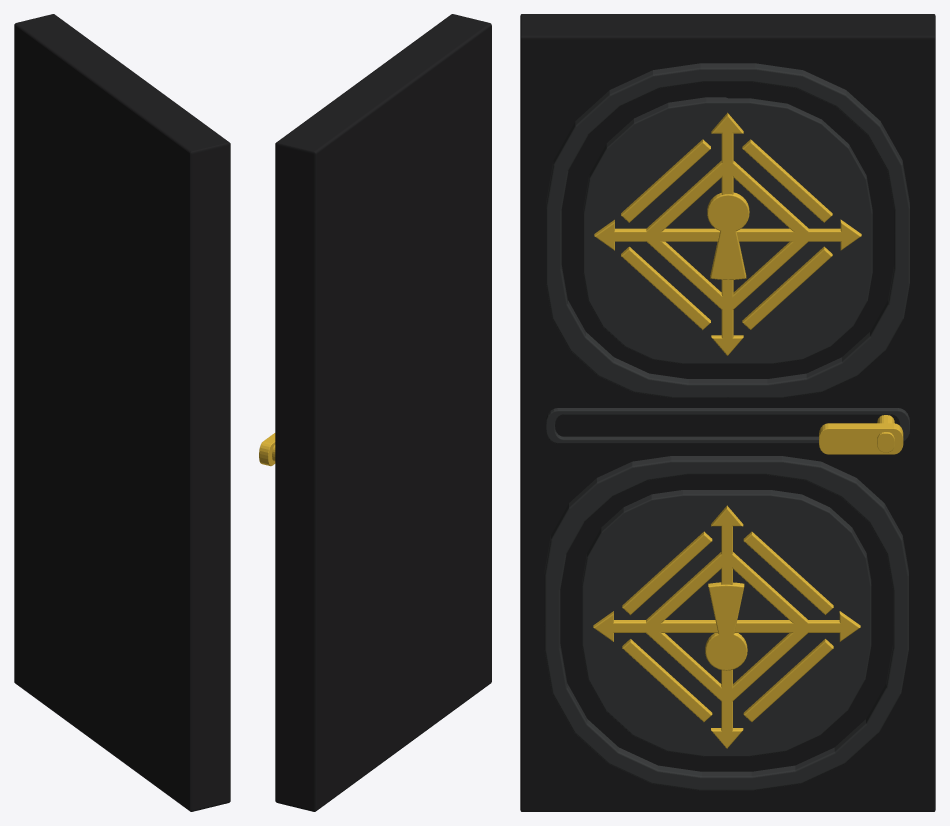
File: SpecialDoor.fbx
3 renders of one model, left to right at view 1: azimuth 30°, elevation 25°; view 2: azimuth 150°, elevation 25°; view 3: azimuth 270°, elevation 25°, orthographic. The views are drawn at different scales.
Visible parts, largest first — view 1: Plane; view 2: Plane; view 3: Plane, Plane.004, Plane.009, Plane.006, Plane.001, Circle.009, Circle.023, Plane.003, Circle.018, Circle, Plane.007, Circle.019 (+7 smaller).
Part boxes in pixels (x1,y1,x2,y2): Plane: [14, 14, 230, 811]; Plane: [275, 14, 491, 811]; Plane: [520, 14, 935, 811]; Plane.004: [583, 97, 872, 363]; Plane.009: [582, 490, 871, 756]; Plane.006: [544, 456, 908, 790]; Plane.001: [546, 63, 909, 397]; Circle.009: [594, 112, 861, 355]; Circle.023: [593, 505, 860, 748]; Plane.003: [546, 408, 909, 443]; Circle.018: [705, 582, 747, 670]; Circle: [707, 192, 749, 280]; Plane.007: [819, 423, 903, 454]; Circle.019: [743, 531, 833, 614].
Size of the model in its own units: 34.29 by 298 by 144.
